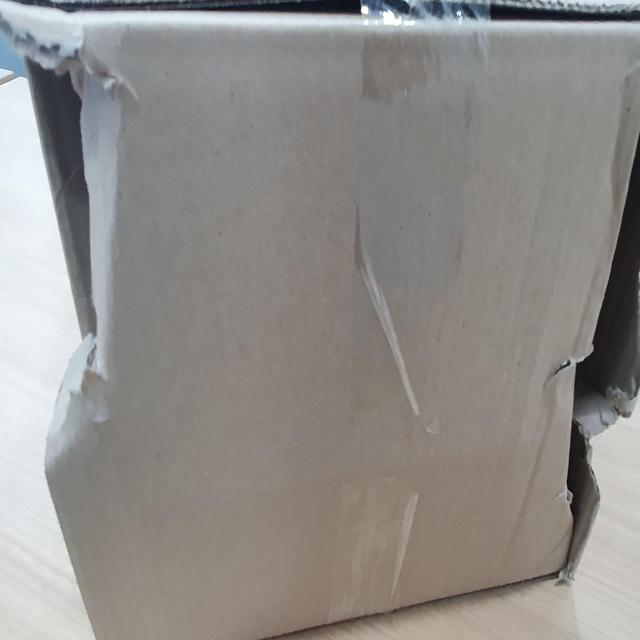damaged: (11, 13, 130, 451), (557, 115, 640, 574)
